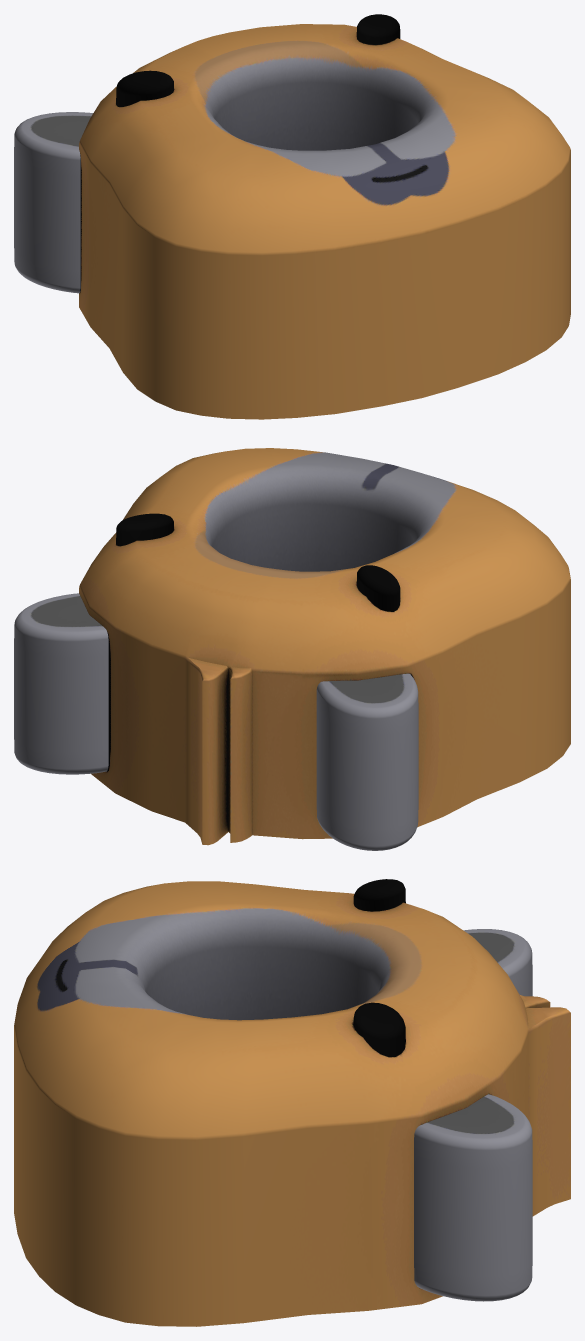
Rendered from capybara.fbx.
3 views of the same model, one above another, from view 1: azimuth 30°, elevation 25°; view 2: azimuth 150°, elevation 25°; view 3: azimuth 270°, elevation 25° (orthographic). The views are drawn at different scales.
Parts seen in each view (by area): view 1: panda, ear, eyes1; view 2: panda, ear, eyes1; view 3: panda, ear, eyes1.
Part boxes in pixels (x1=…): panda: x1=79, y1=24, x2=570, y2=419; ear: x1=14, y1=112, x2=93, y2=293; eyes1: x1=116, y1=14, x2=400, y2=106; panda: x1=79, y1=448, x2=570, y2=845; ear: x1=14, y1=593, x2=418, y2=850; eyes1: x1=116, y1=513, x2=400, y2=611; panda: x1=14, y1=881, x2=570, y2=1326; ear: x1=414, y1=929, x2=532, y2=1301; eyes1: x1=353, y1=879, x2=405, y2=1057.
Size of the model in its own units: 0.4324 by 0.2348 by 0.4462.
3 materials, 3 textured.
